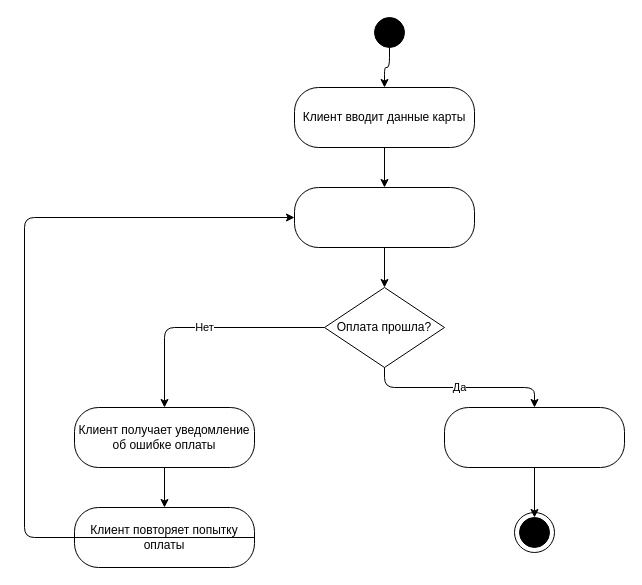
Some shapes in this 642 by 585 pixel diagram are drawn without their labels. Here are the shapes that lost their labels. From the top down, the centre of each, then its label:
At point (384, 217): "Система отправляет запрос в платёжный шлюз".
At point (534, 437): "Заказ подтверждён и передан на кухню".
